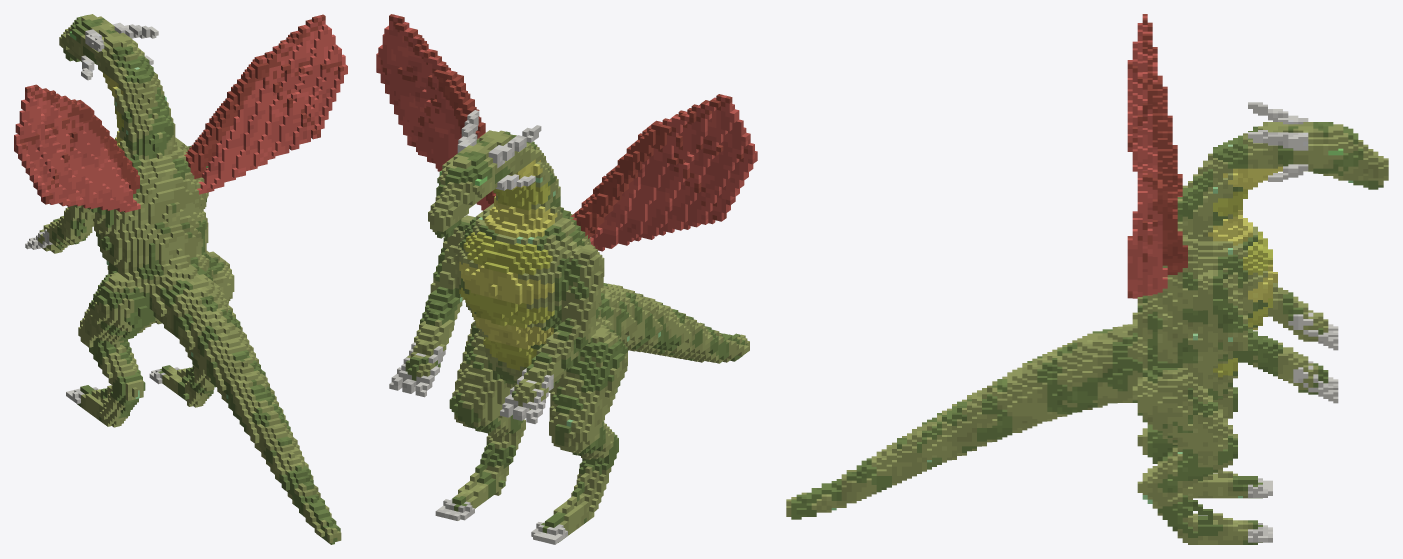
The model's file is mire_mother.glb.
3 views of the same model, side by side, from view 1: azimuth 30°, elevation 25°; view 2: azimuth 150°, elevation 25°; view 3: azimuth 270°, elevation 25° (orthographic). The views are drawn at different scales.
Visible parts, largest first — view 1: mire_mother; view 2: mire_mother; view 3: mire_mother.
Boxes of the visible parts, x1,y1,x2,y2 form: mire_mother: (14,14,347,544); mire_mother: (376,14,757,544); mire_mother: (786,14,1388,544).
Size of the model in its own units: 3.54 by 3.88 by 5.
